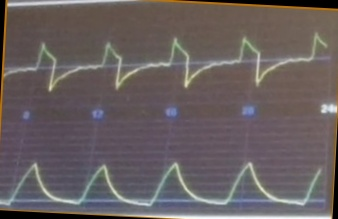Normal Flow: (5, 27, 328, 96)
Normal Volume: (1, 139, 324, 210)
